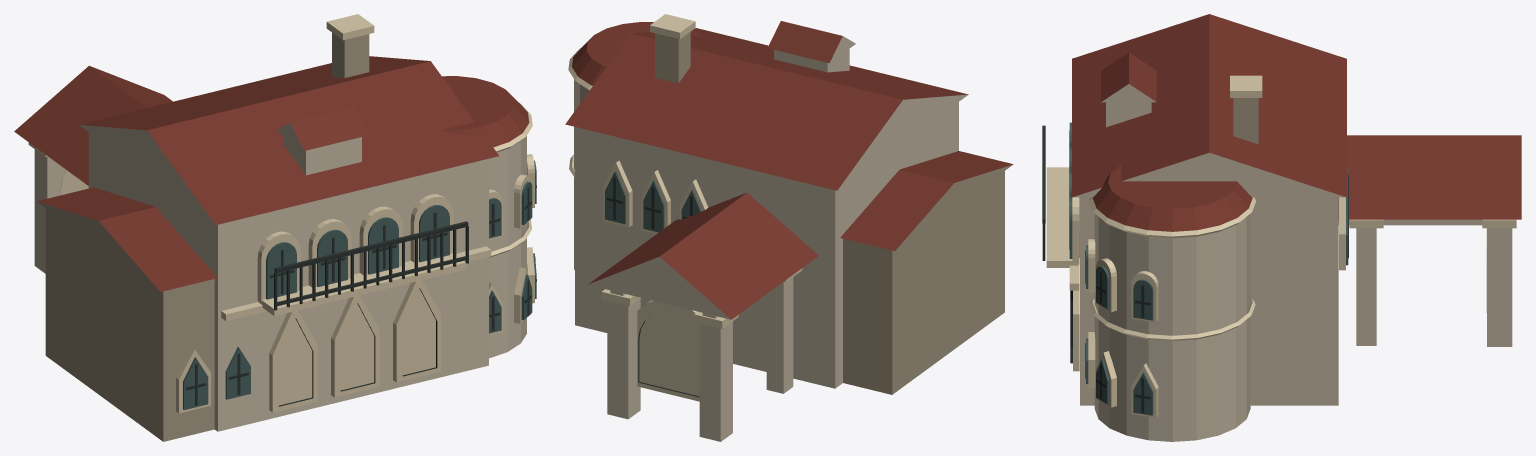
The model's file is sun-ke-villa-master.glb.
3 views of the same model, side by side, from view 1: azimuth 30°, elevation 25°; view 2: azimuth 150°, elevation 25°; view 3: azimuth 270°, elevation 25° (orthographic). The views are drawn at different scales.
Parts seen in each view (by area): view 1: sun-ke-villa-master; view 2: sun-ke-villa-master; view 3: sun-ke-villa-master.
Part boxes in pixels (x1=…): sun-ke-villa-master: x1=14, y1=14, x2=536, y2=441; sun-ke-villa-master: x1=565, y1=14, x2=1013, y2=441; sun-ke-villa-master: x1=1042, y1=14, x2=1521, y2=441.
Size of the model in its own units: 7.46 by 5.14 by 7.57.
